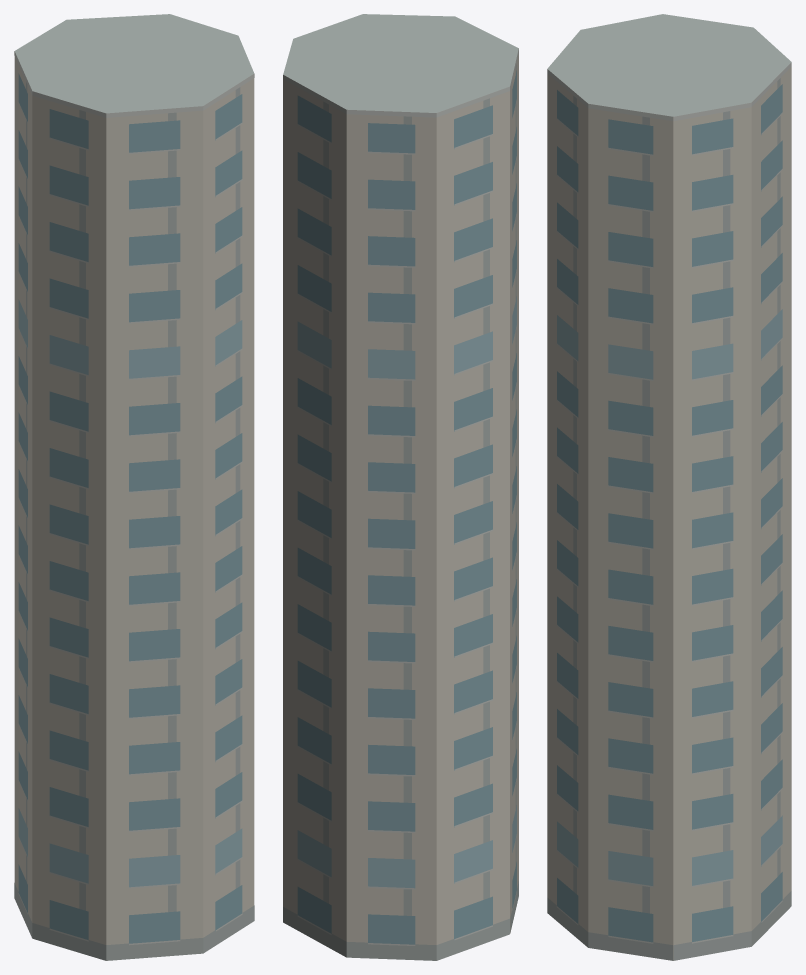
The model's file is survey-upis-32841814.glb.
3 renders of one model, left to right at view 1: azimuth 30°, elevation 25°; view 2: azimuth 150°, elevation 25°; view 3: azimuth 270°, elevation 25°, orthographic.
Parts seen in each view (by area): view 1: survey-upis-32841814.tmp; view 2: survey-upis-32841814.tmp; view 3: survey-upis-32841814.tmp.
Part boxes in pixels (x1,y1,x2,y2): survey-upis-32841814.tmp: (14,14,254,960); survey-upis-32841814.tmp: (283,14,518,960); survey-upis-32841814.tmp: (547,14,791,960).
Bounding box in the file's own units: 11.96 × 45.75 × 12.02.
